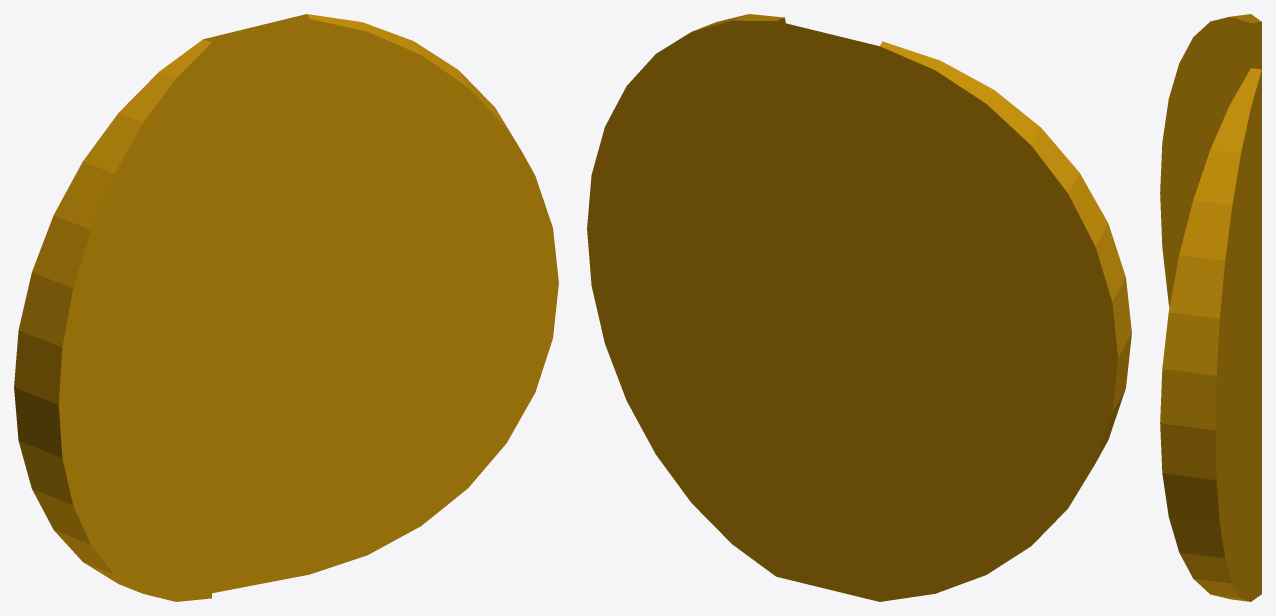
File: coin.obj
3 views of the same model, side by side, from view 1: azimuth 30°, elevation 25°; view 2: azimuth 150°, elevation 25°; view 3: azimuth 270°, elevation 25° (orthographic). The views are drawn at different scales.
Parts seen in each view (by area): view 1: Sphere; view 2: Sphere; view 3: Sphere.
Boxes of the visible parts, bbox=[...] form: Sphere: bbox=[14, 14, 558, 601]; Sphere: bbox=[587, 14, 1131, 601]; Sphere: bbox=[1160, 14, 1261, 601].
Size of the model in its own units: 1.96 by 1.96 by 0.3446.
